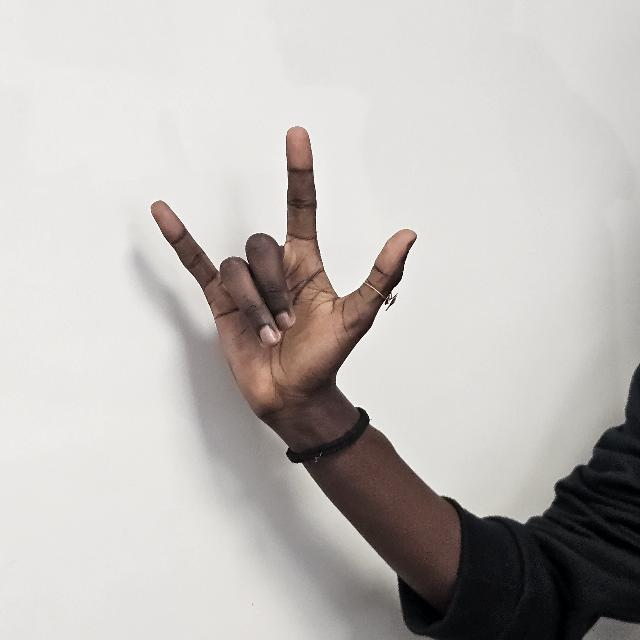Cima: (144, 126, 418, 424)
